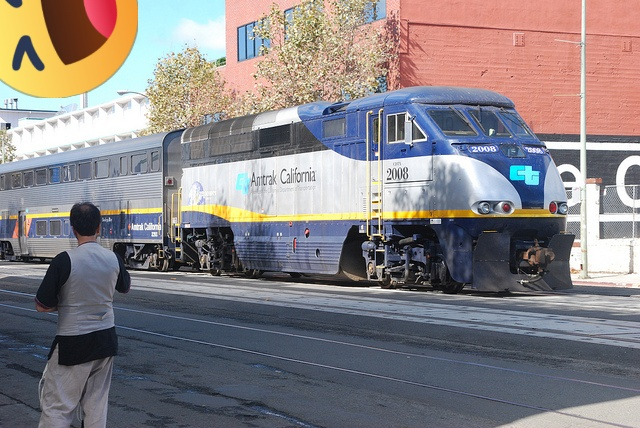haha: (0, 0, 138, 98)
